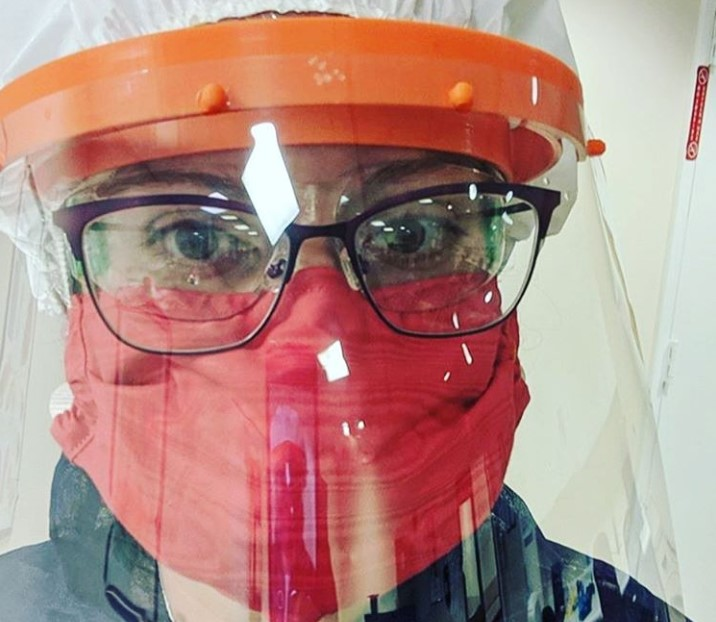face_with_mask: (1, 1, 666, 616)
